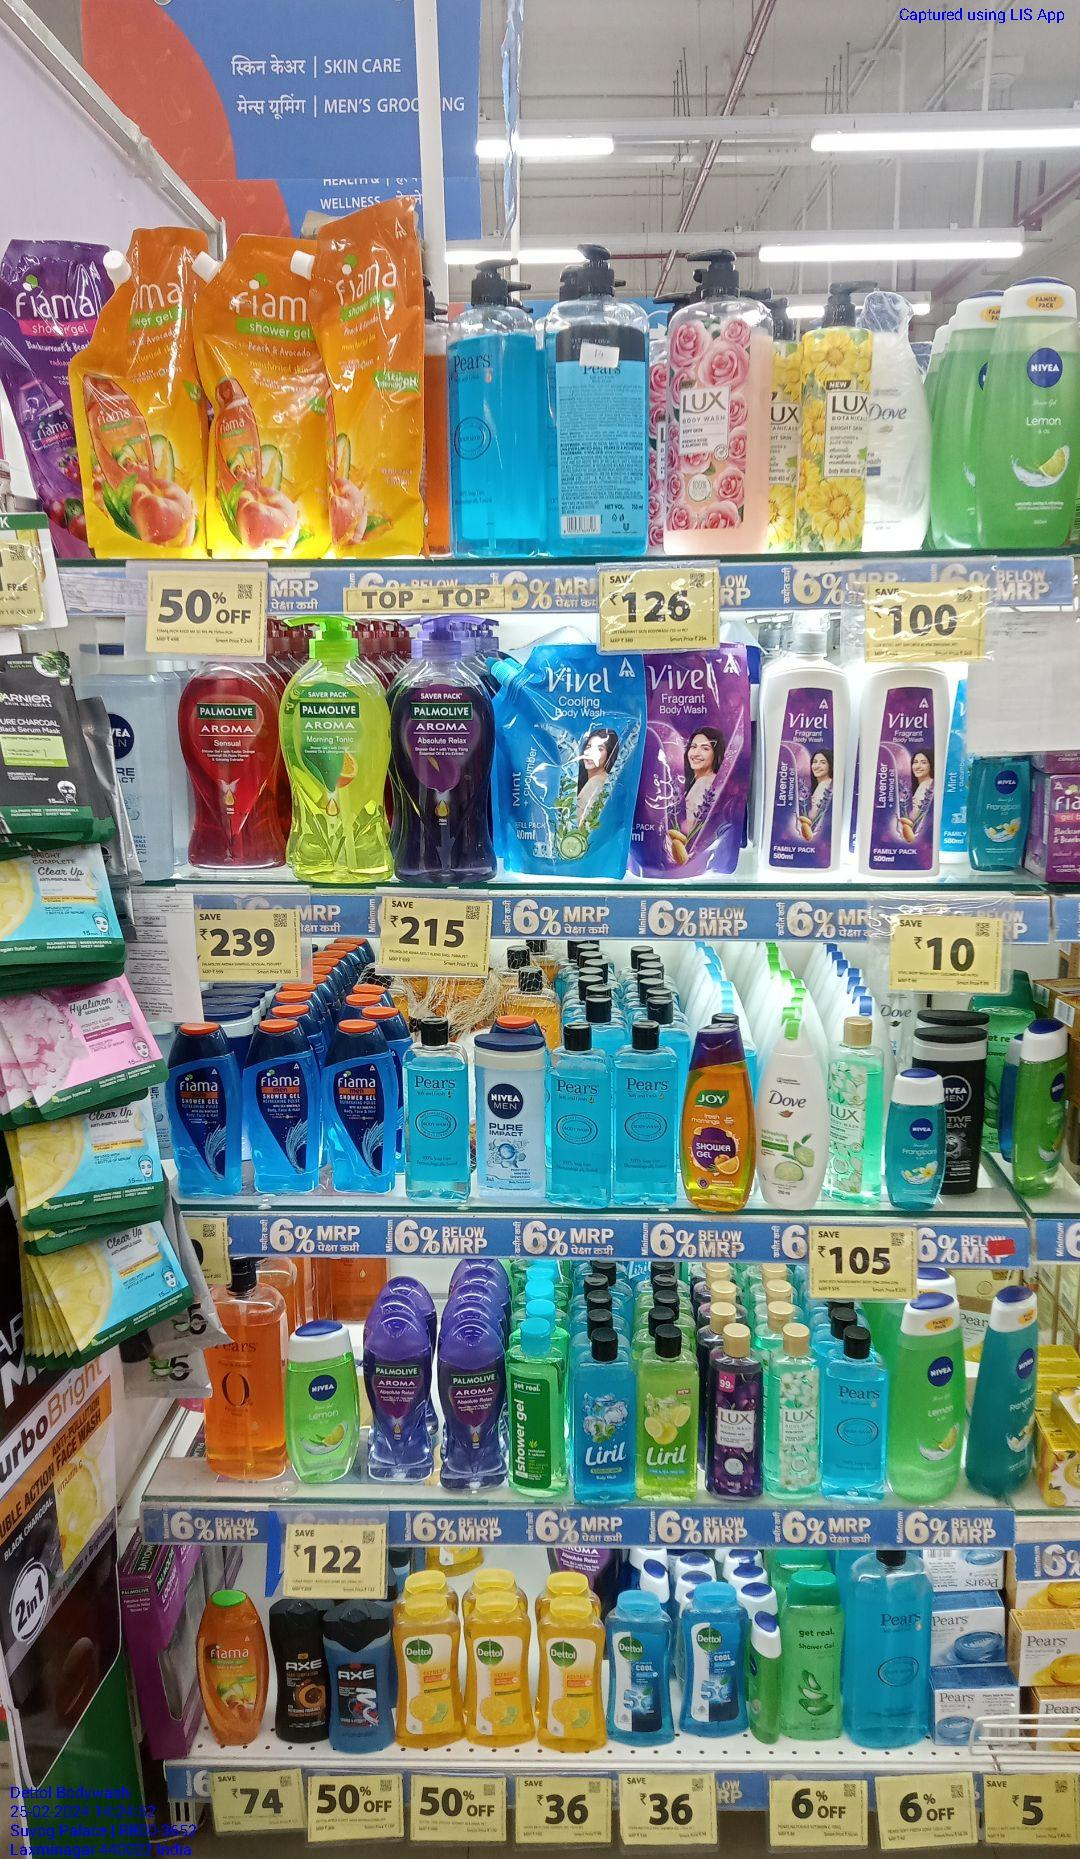Dettol_Bodywash_Cool: (683, 1589, 750, 1736), (608, 1604, 675, 1745)
Dettol_Bodywash_Refresh: (392, 1601, 462, 1750), (467, 1604, 536, 1747), (540, 1606, 604, 1751)
Dove_Refreshing_Body_Wash_250ML: (756, 1021, 827, 1211)
Fiama_Shower_Gel_Peach_and_Avocado_250ML: (199, 1595, 264, 1746)
Joy_Shower_Gel_Mandarin_and_Lemongrass_250ML: (681, 1027, 752, 1210)
Liril_Cooling_Mint_Body_Wash_250ML: (570, 1333, 635, 1503)
Liril_Lime_and_Tea_Tree_Oil_Body_Wash_250ML: (639, 1334, 699, 1495)
Lux_Black_Orchid_Scent_and_Juniper_Oil_Body_Wash_245ML: (708, 1331, 765, 1498)
Lux_Body_Wash_Skin_Detox_Freesia_Scent_and_Alove_Vera_245ML: (833, 1018, 885, 1201), (770, 1332, 819, 1498)
Nivea_Shower_Gel_Frangipani_and_Oil_250ML: (971, 1296, 1045, 1495), (972, 757, 1029, 874)
Nivea_Shower_Gel_Lemon_and_Oil_250ML: (978, 282, 1080, 545), (894, 1300, 967, 1503), (292, 1332, 359, 1478)
Palmolive_Aroma_Relax_250ML: (438, 1325, 508, 1490), (368, 1319, 432, 1485)
Pears_Pure_Glycerin_and_Mint_Extracts_Body_Wash_250ML: (401, 1021, 469, 1201), (549, 1026, 612, 1207), (615, 1026, 678, 1206), (823, 1333, 887, 1502)
